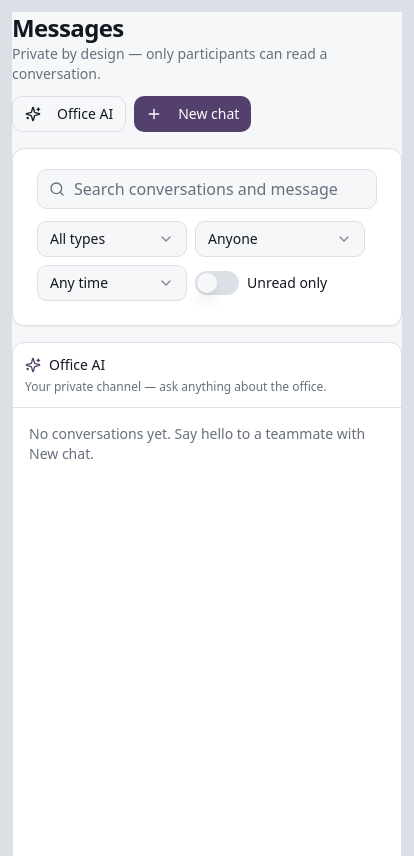
it: Messages for an employee › says so when no teammate has signed in yet
Click the button "New chat" at {"x": 193, "y": 114}, box [134,96,251,132]
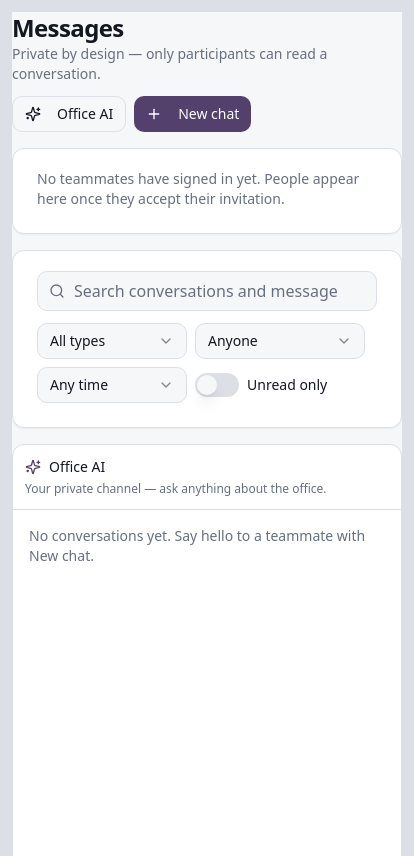
Expected: the text "No conversations yet. Say hello to a teammate with New chat." is shown, [13,509,401,582]
Now the text "No teammates have signed in yet" is shown, box [37,169,359,208]
